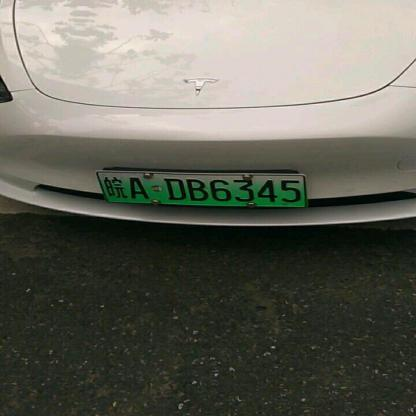lp: (96, 172, 306, 206)
